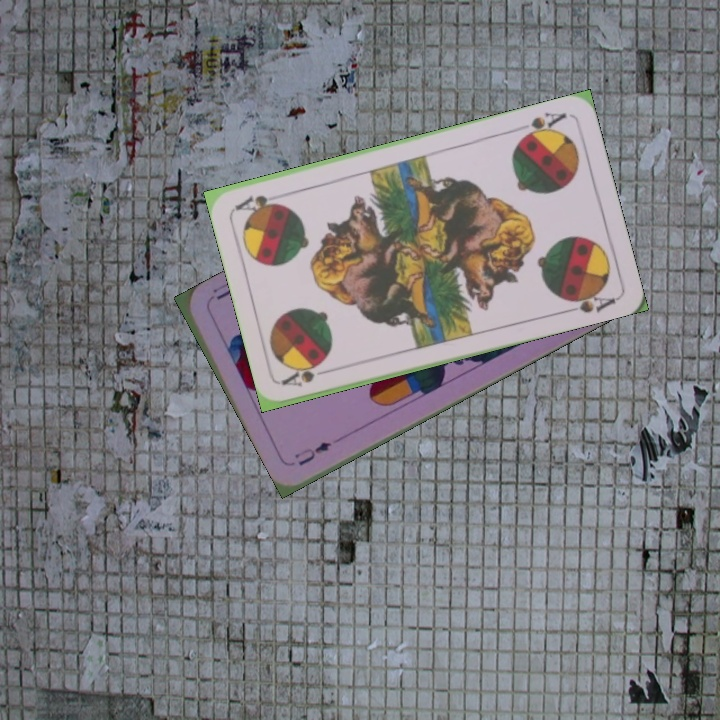EU: (290, 437, 335, 469)
SA: (515, 108, 569, 143), (279, 360, 337, 390)
